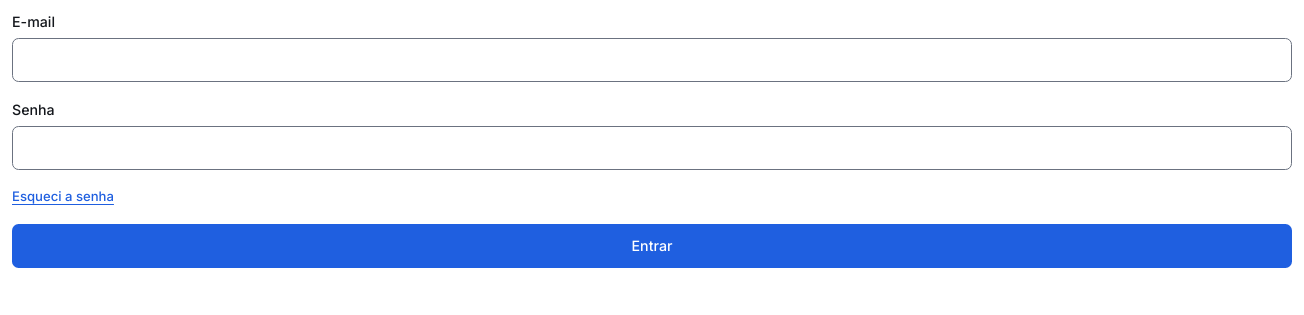
it: FormularioLogin › recusa e-mail malformado
The width and height of the screenshot is (1304, 315).
Type "sem-arroba" into the field labelled "E-mail" at coordinates (652, 60), box [12,38,1292,82]
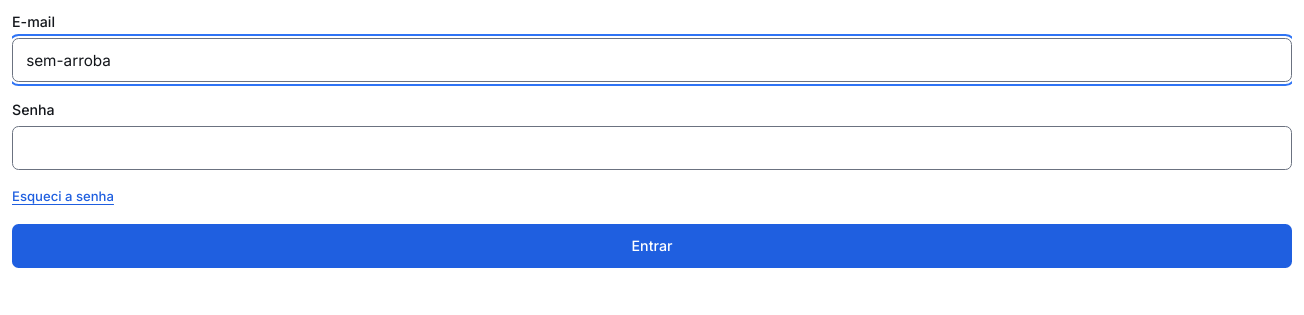
Type "qualquer-senha" into the password field labelled "Senha" at coordinates (652, 148), box [12,126,1292,170]
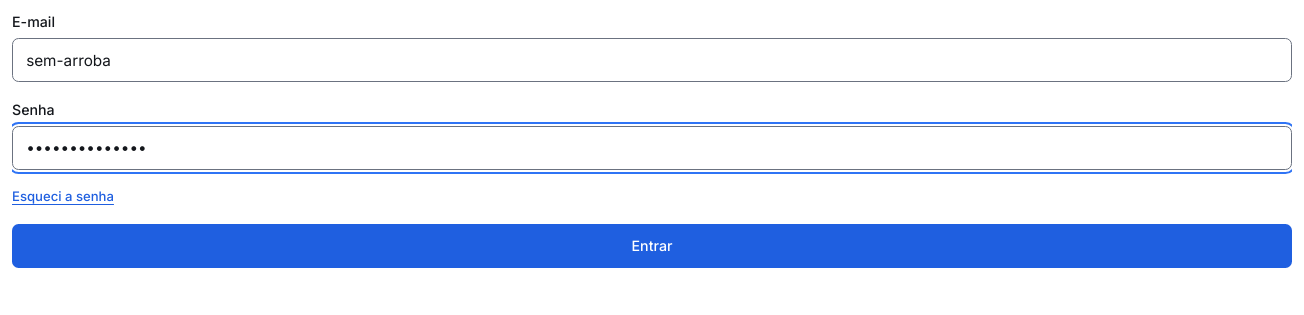
Click the button "Entrar" at coordinates (652, 246), box [12,224,1292,268]
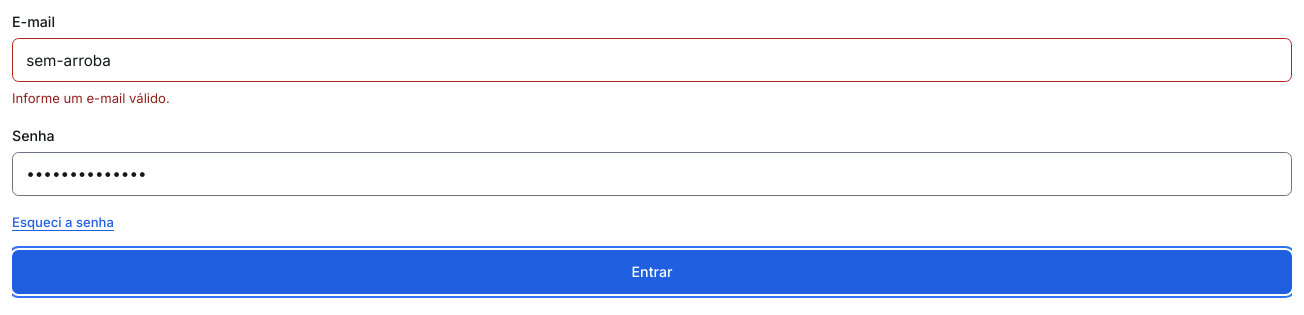
Expected: the text "Informe um e-mail válido." is shown, [12,90,170,106]
